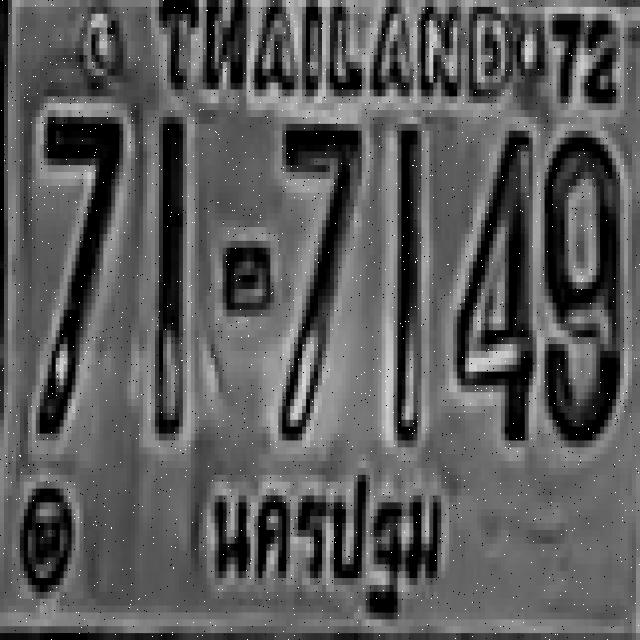1: (388, 120, 420, 444), (151, 114, 183, 438)
4: (451, 124, 531, 434)
7: (36, 110, 120, 434), (278, 118, 358, 434), (42, 110, 118, 330)
9: (540, 124, 620, 440)
NakhonPathom: (204, 457, 449, 623)
